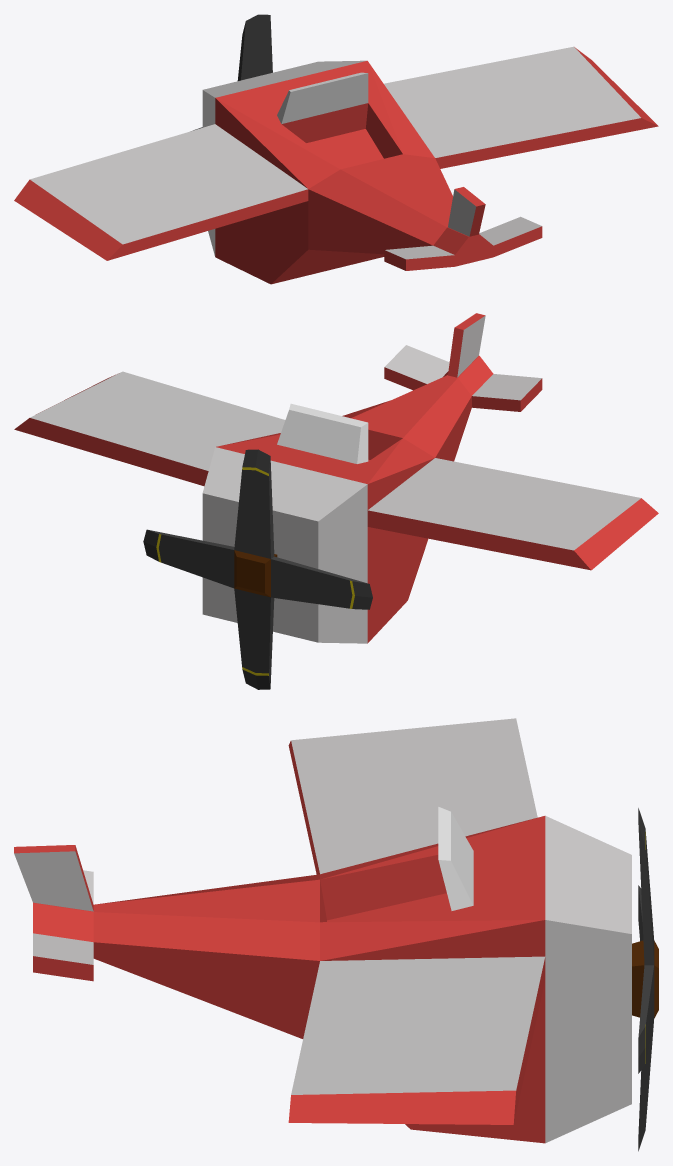
3 views of the same model, one above another, from view 1: azimuth 30°, elevation 25°; view 2: azimuth 150°, elevation 25°; view 3: azimuth 270°, elevation 25° (orthographic). The views are drawn at different scales.
Parts seen in each view (by area): view 1: Fuselage, Propeller; view 2: Fuselage, Propeller; view 3: Fuselage, Propeller.
Part boxes in pixels (<box>): Fuselage: <box>14,46,658,284</box>; Propeller: <box>193,14,272,130</box>; Fuselage: <box>14,313,658,643</box>; Propeller: <box>143,449,372,689</box>; Fuselage: <box>14,718,631,1143</box>; Propeller: <box>632,808,658,1151</box>.
Size of the model in its own units: 8.16 by 3.25 by 5.63.
